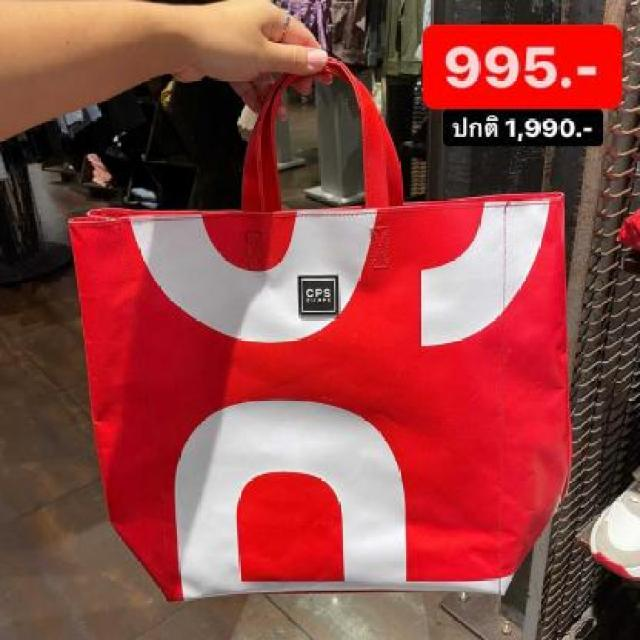Bag: (33, 51, 599, 640)
